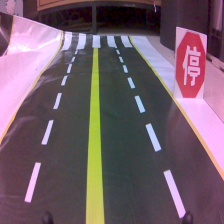stop: (171, 23, 209, 102)
